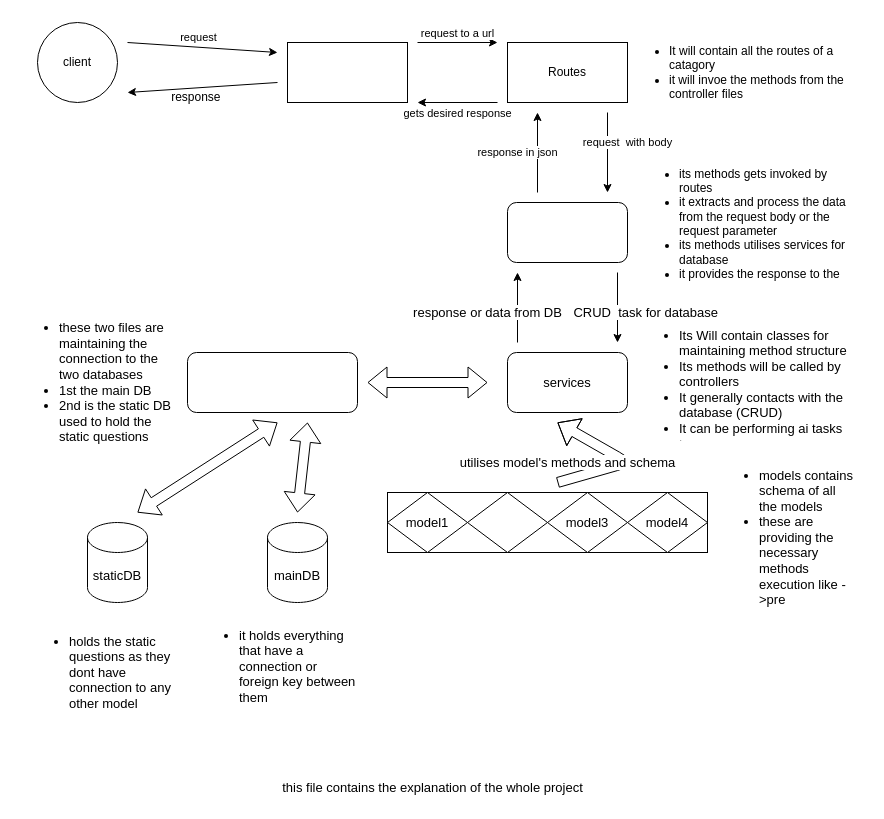
This 884x819 diagram has some shape labels left out. Here are the shapes that lost their labels. From the top down, the centre of each, then its label:
At (x=347, y=72): "FrontEnd(reactjs)".
At (x=567, y=232): "controller".
At (x=272, y=382): "database".
At (x=507, y=522): "model2".
